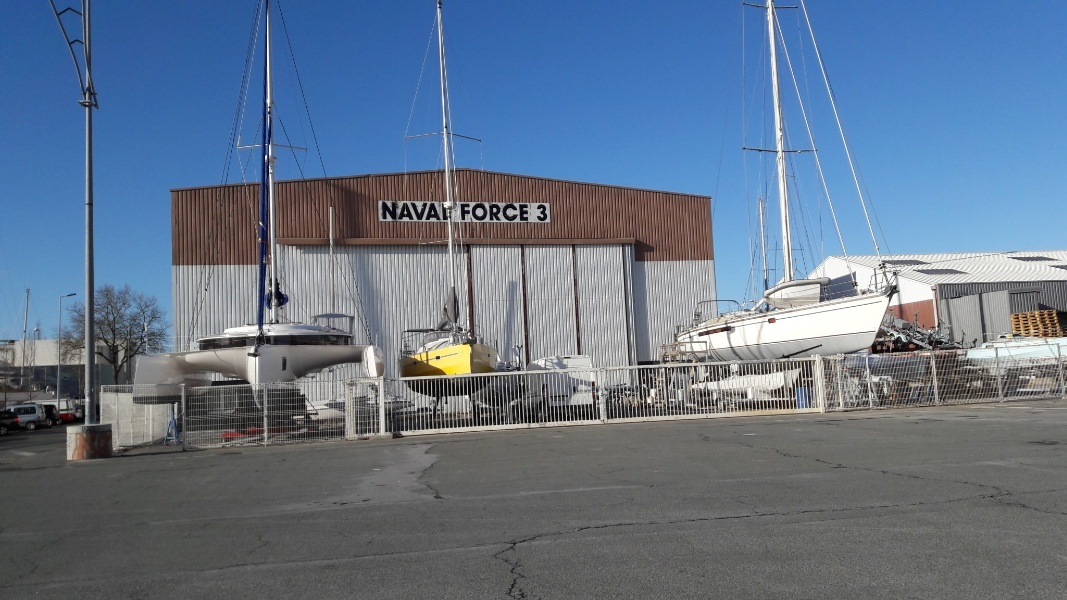text: (385, 202, 400, 221), (401, 202, 416, 221), (417, 202, 432, 221), (513, 204, 529, 221), (465, 204, 480, 221), (481, 204, 496, 221), (497, 204, 512, 221), (433, 202, 441, 221), (537, 205, 544, 222), (442, 203, 448, 221), (449, 203, 452, 221), (461, 204, 464, 221), (545, 205, 548, 222), (382, 202, 384, 221)
